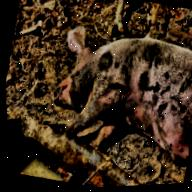boar: (35, 15, 192, 173)
